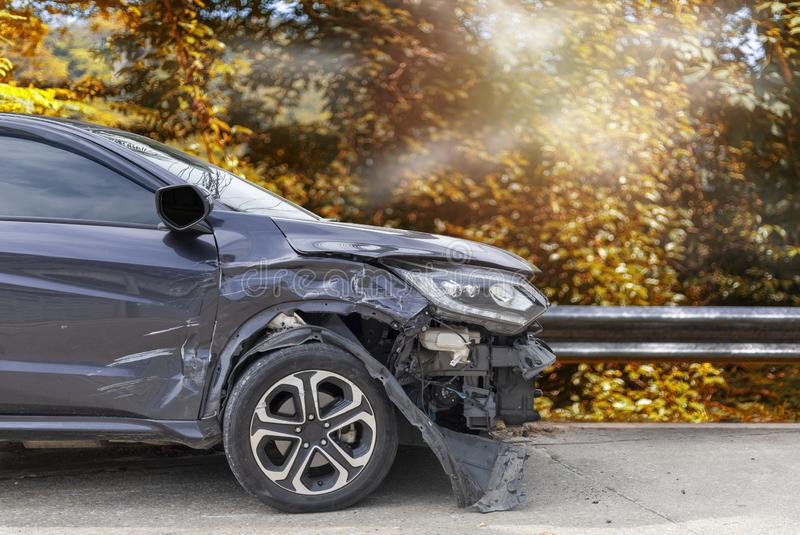doorouter-dent: (0, 226, 208, 421)
fender-dent: (209, 230, 408, 343)
front-bumper-dent: (414, 252, 582, 427)
